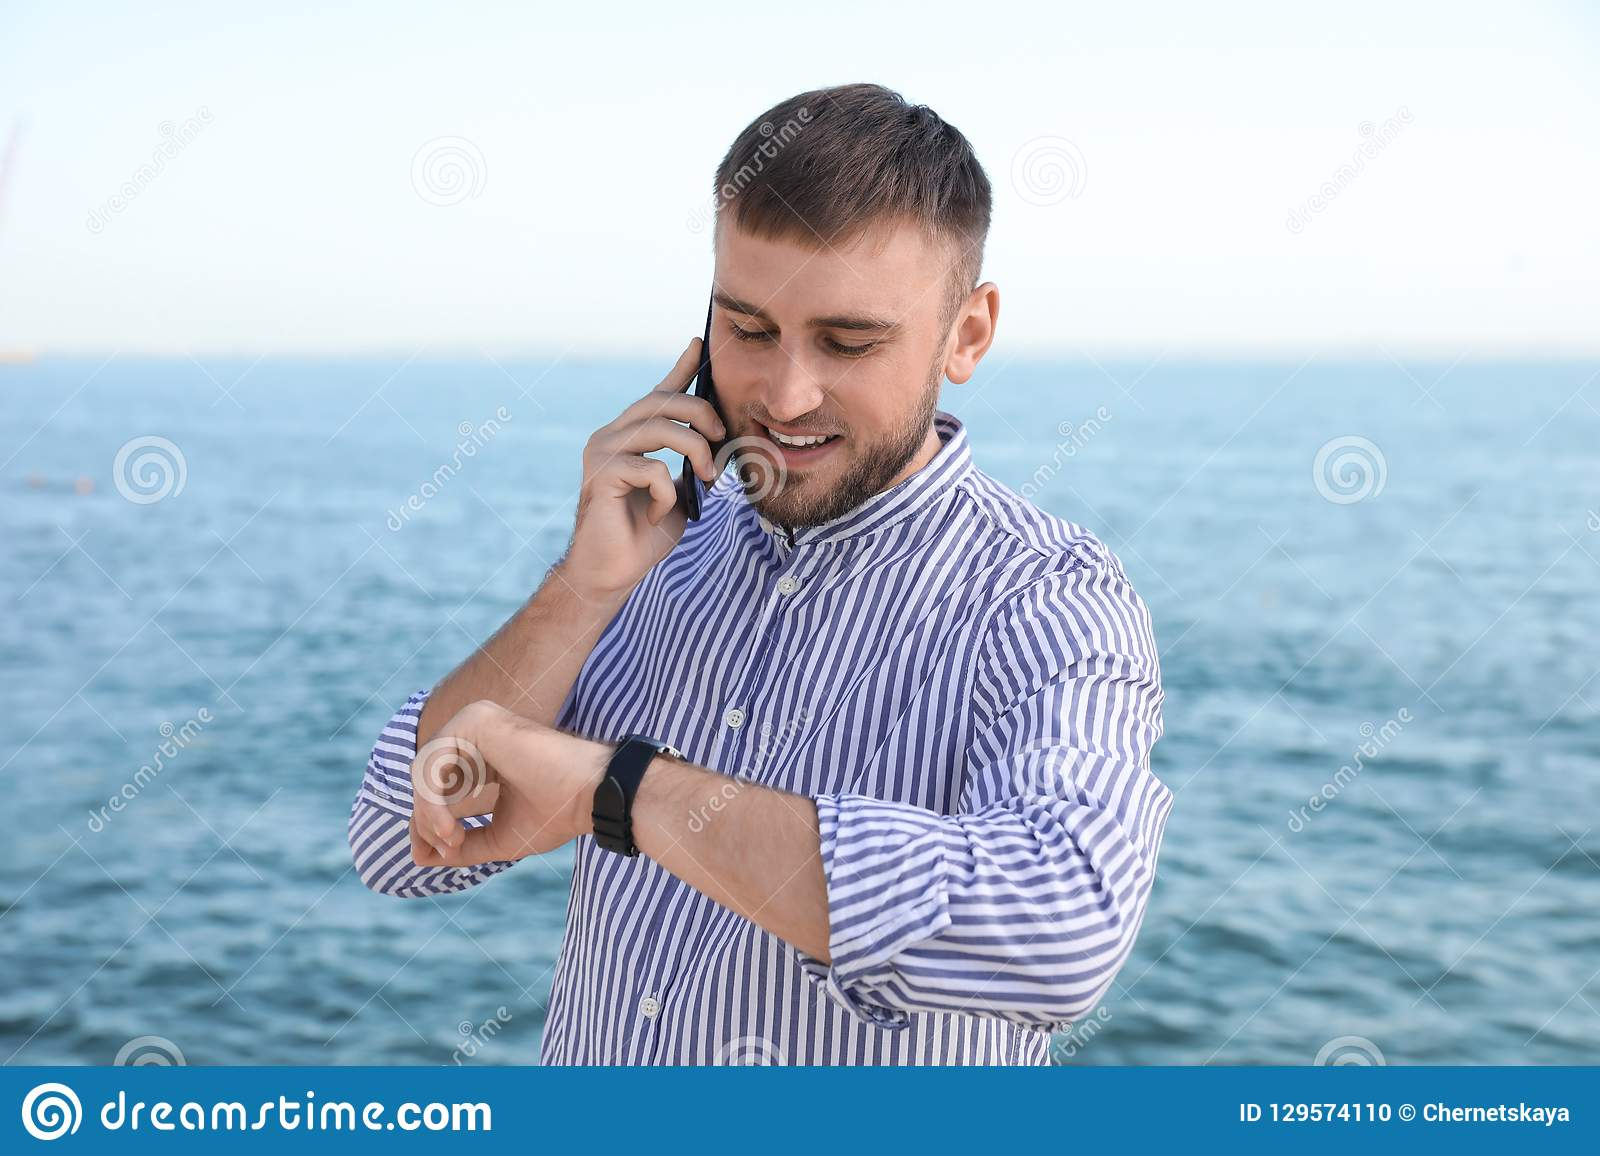phone: (680, 287, 718, 520)
talk: (570, 250, 924, 585)
